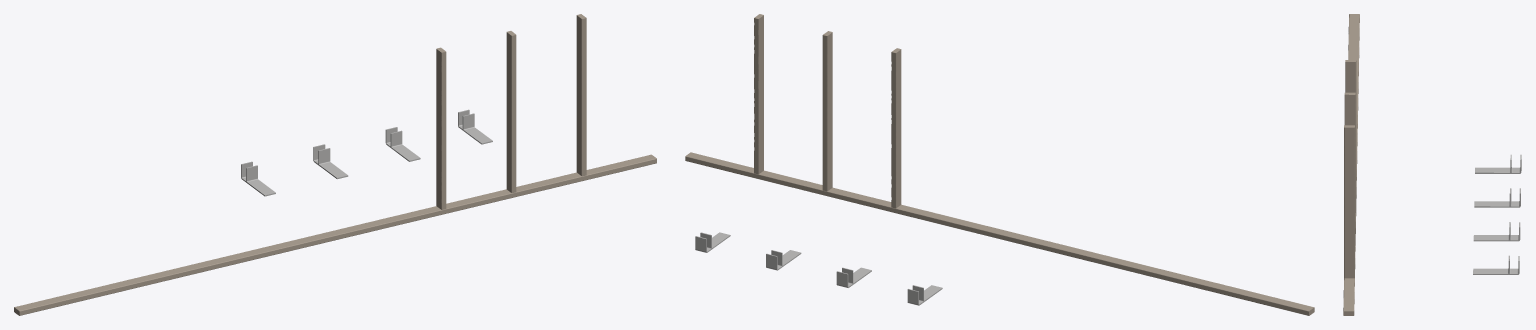
The picture shows the model from 3 angles, left to right: view 1: azimuth 30°, elevation 25°; view 2: azimuth 150°, elevation 25°; view 3: azimuth 270°, elevation 25°; orthographic projection. The views are drawn at different scales.
Bounding box in the file's own units: 4.54 × 1.14 × 1.15.
